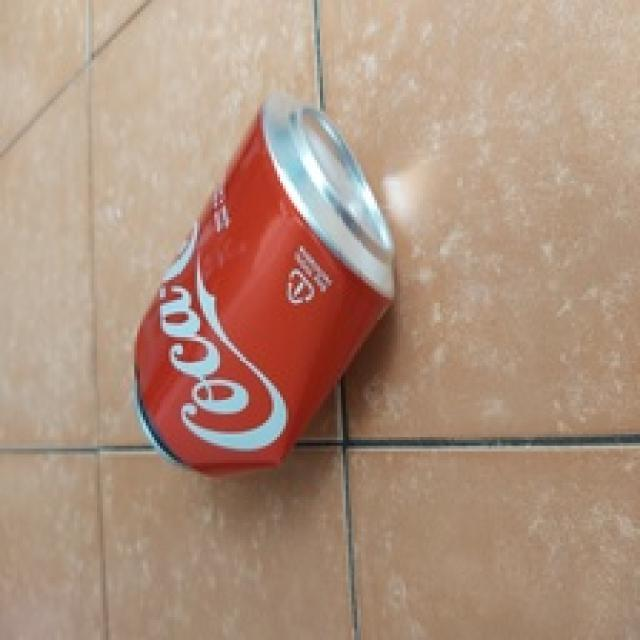recyclable: (132, 90, 396, 477)
